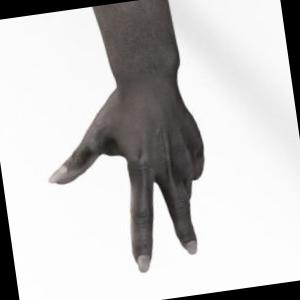scissors: (50, 0, 204, 272)
